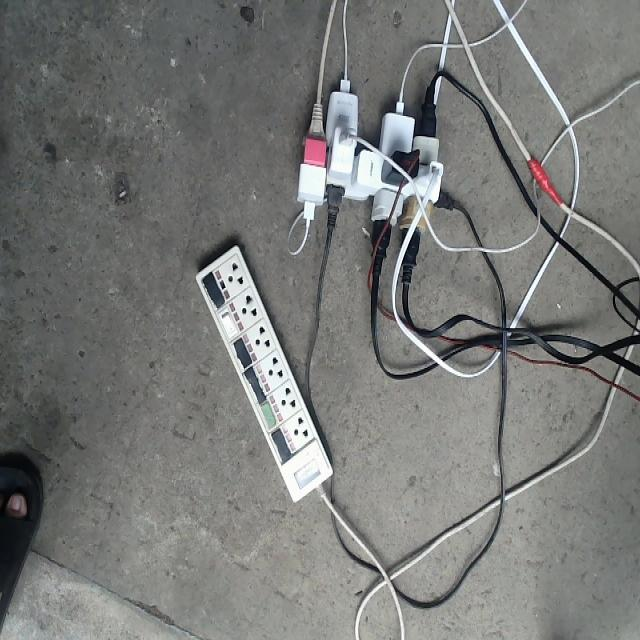-: (293, 79, 459, 282)
